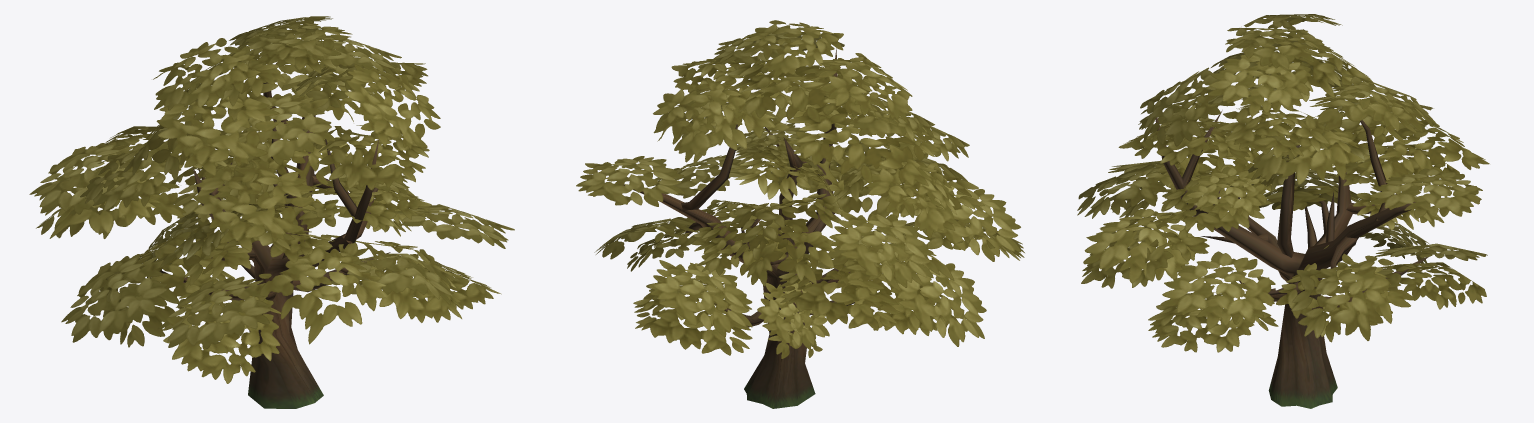
Rendered from Xuanjue_s.FBX.
The picture shows the model from 3 angles, left to right: view 1: azimuth 30°, elevation 25°; view 2: azimuth 150°, elevation 25°; view 3: azimuth 270°, elevation 25°; orthographic projection. The views are drawn at different scales.
Visible parts, largest first — view 1: Xuanjue_s, Xuanjue_sy; view 2: Xuanjue_s, Xuanjue_sy; view 3: Xuanjue_s, Xuanjue_sy.
Boxes of the visible parts, <box> form: Xuanjue_s: <box>29,16,514,383</box>; Xuanjue_sy: <box>160,63,390,408</box>; Xuanjue_s: <box>576,20,1024,358</box>; Xuanjue_sy: <box>623,48,854,408</box>; Xuanjue_s: <box>1077,14,1489,352</box>; Xuanjue_sy: <box>1155,110,1428,408</box>.
Size of the model in its own units: 578 by 555 by 477.
